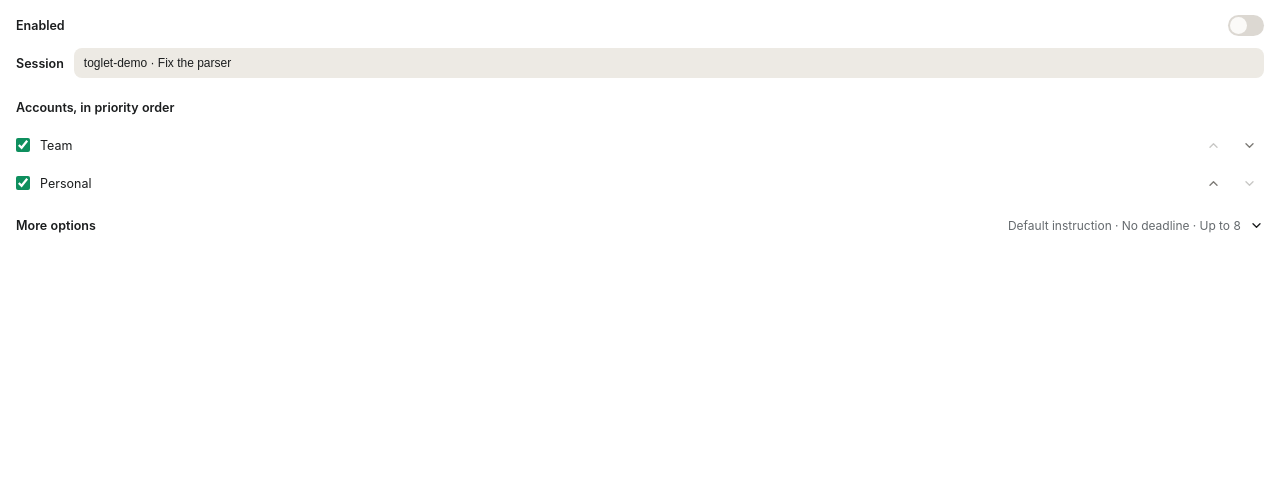
the settings group › folds the instruction and the limits away under a line that sums them up
The image size is (1280, 492).
Step 1. Click the button "More options Default instruction · No deadline · Up to 8" → (56, 225), box [16,206,1264,244]
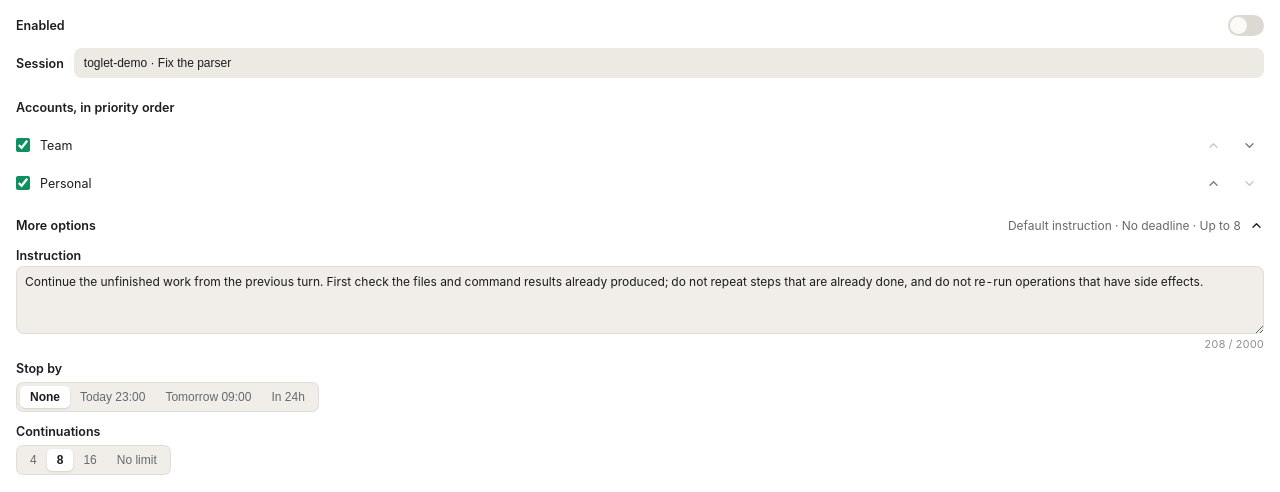
Expected: the button "More options Default instruction · No deadline · Up to 8" is expanded, [16,206,1264,244]
Expected: the text box is shown, [16,266,1264,334]
Expected: the radio button labelled "In 24h" is shown, [261,386,315,408]
